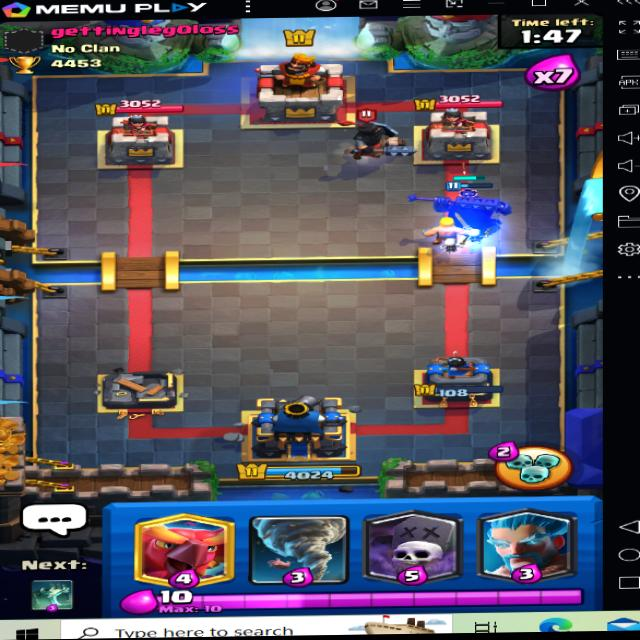dark-prince: (332, 107, 400, 166)
